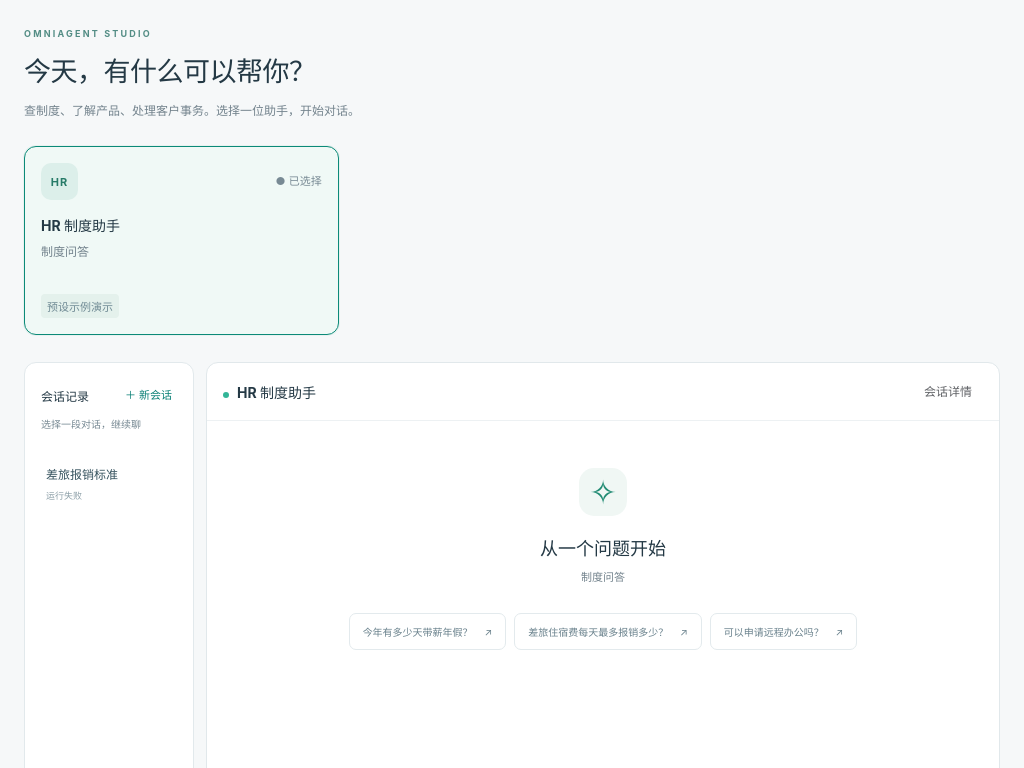
renders persisted dependency_timeout with readable guidance and collapsed known-code details
This screenshot has width=1024, height=768.
What coordinates should you click on to do the following:
click the button with class "session-item"
I would click on:
 (109, 484)
Its box is top-left (25, 451), bottom-right (193, 516).
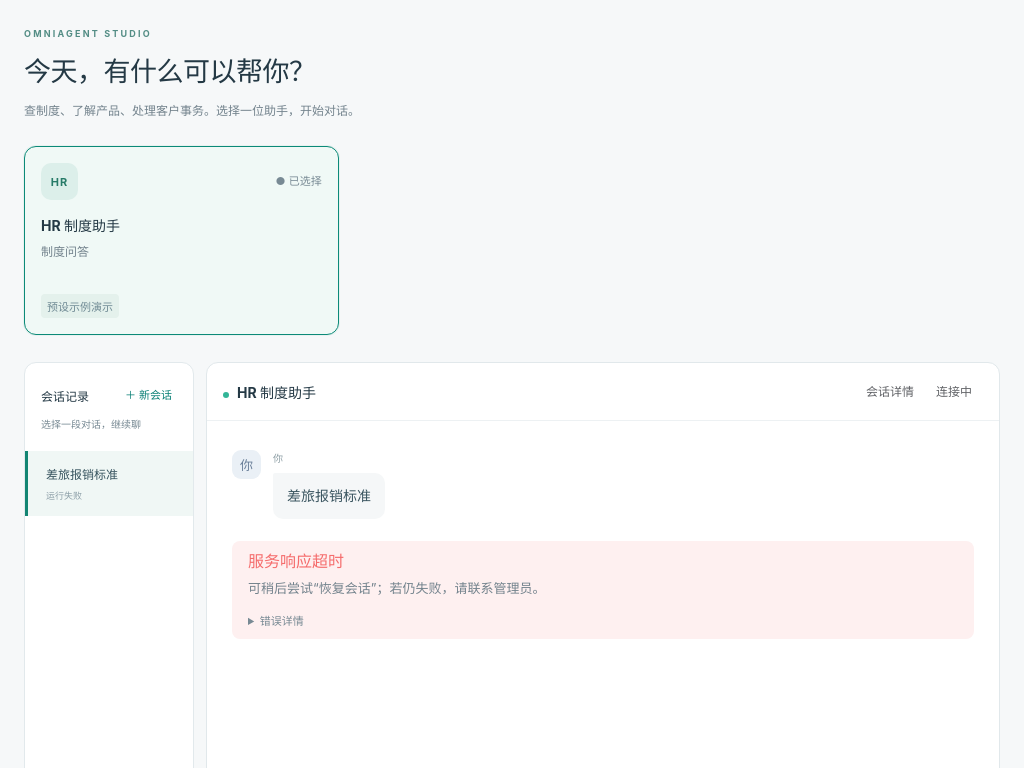
Now the text "服务响应超时" is shown, box top-left (248, 551), bottom-right (344, 571)
Now the element with class "run-error" shows "恢复会话", box top-left (248, 580), bottom-right (546, 596)
